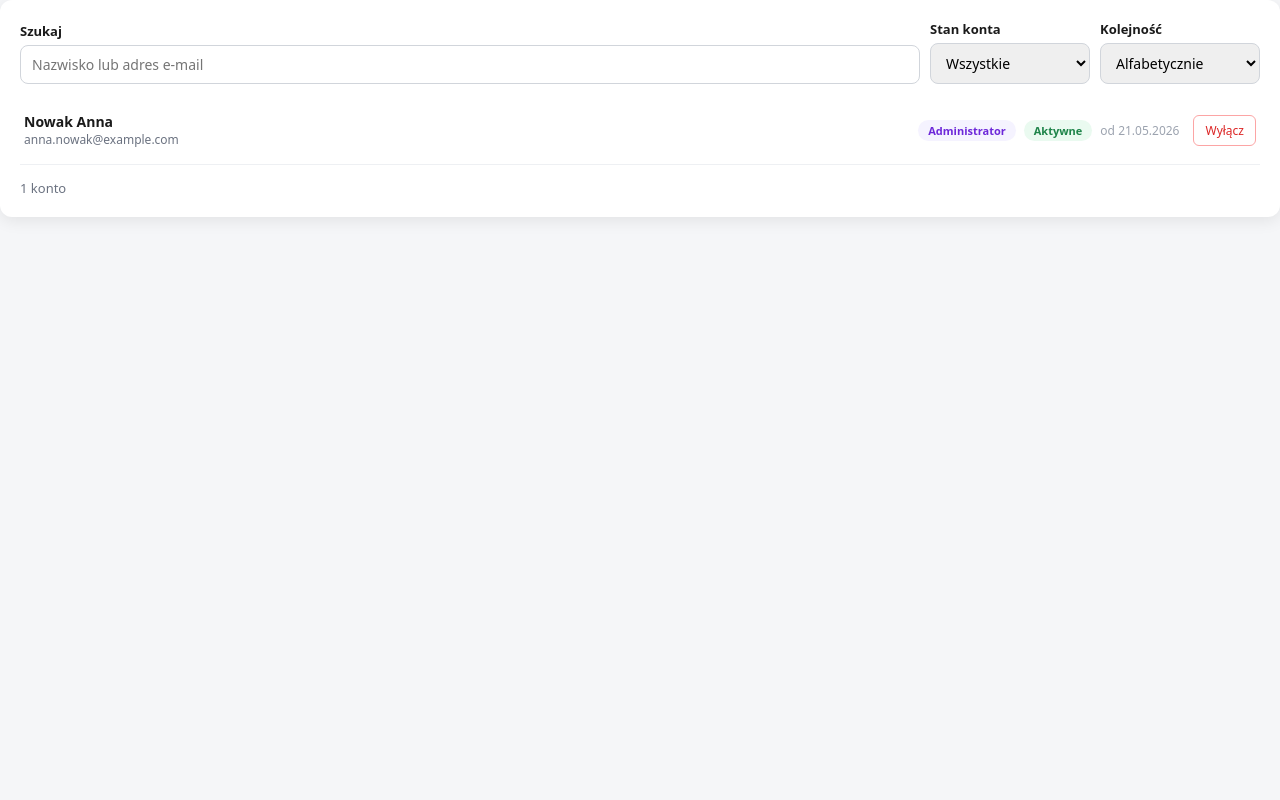
it: AdminUsersPage › odmowa z serwera zostaje w oknie potwierdzenia i nie zmienia wiersza
Expected: the text "Nowak Anna" is shown, [24, 112, 113, 131]
Click the button "Wyłącz" at (1225, 130), box [1194, 114, 1256, 146]
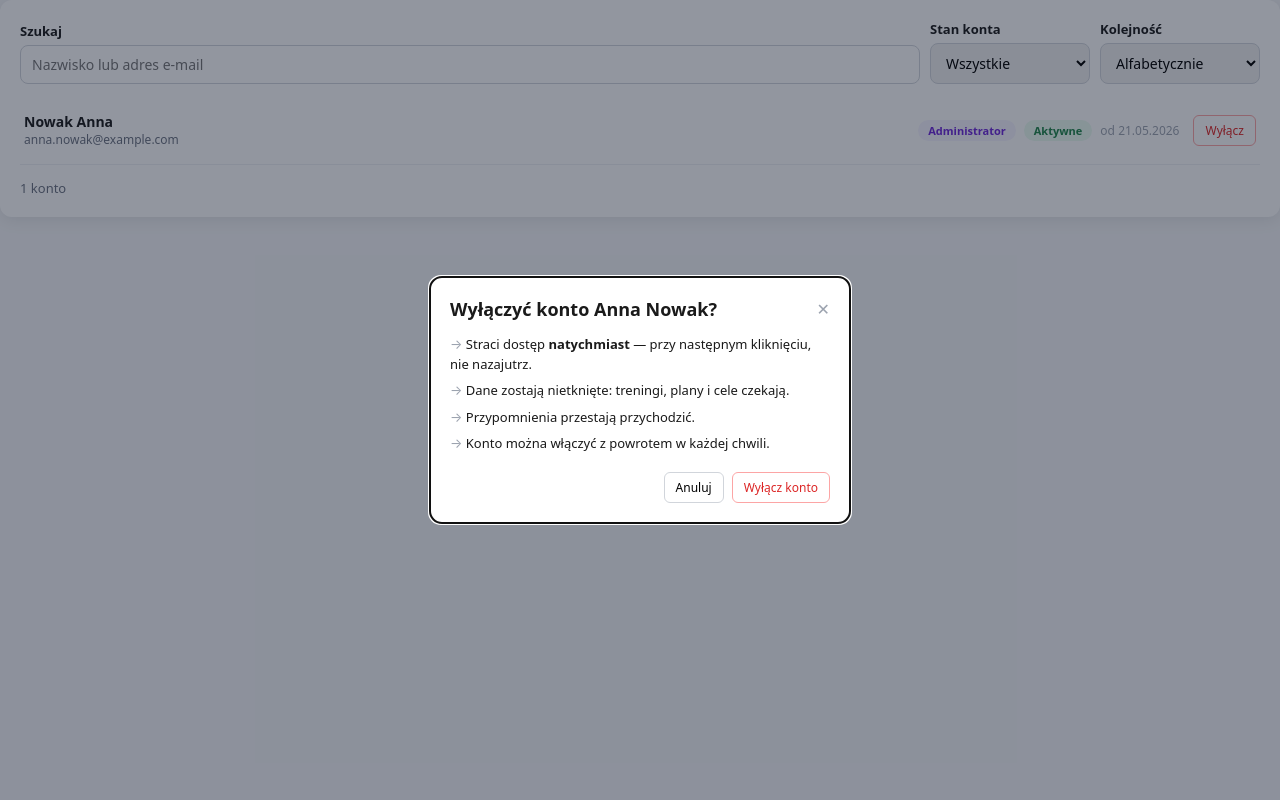
Click the button "Wyłącz konto" at (781, 487), box [732, 472, 830, 503]
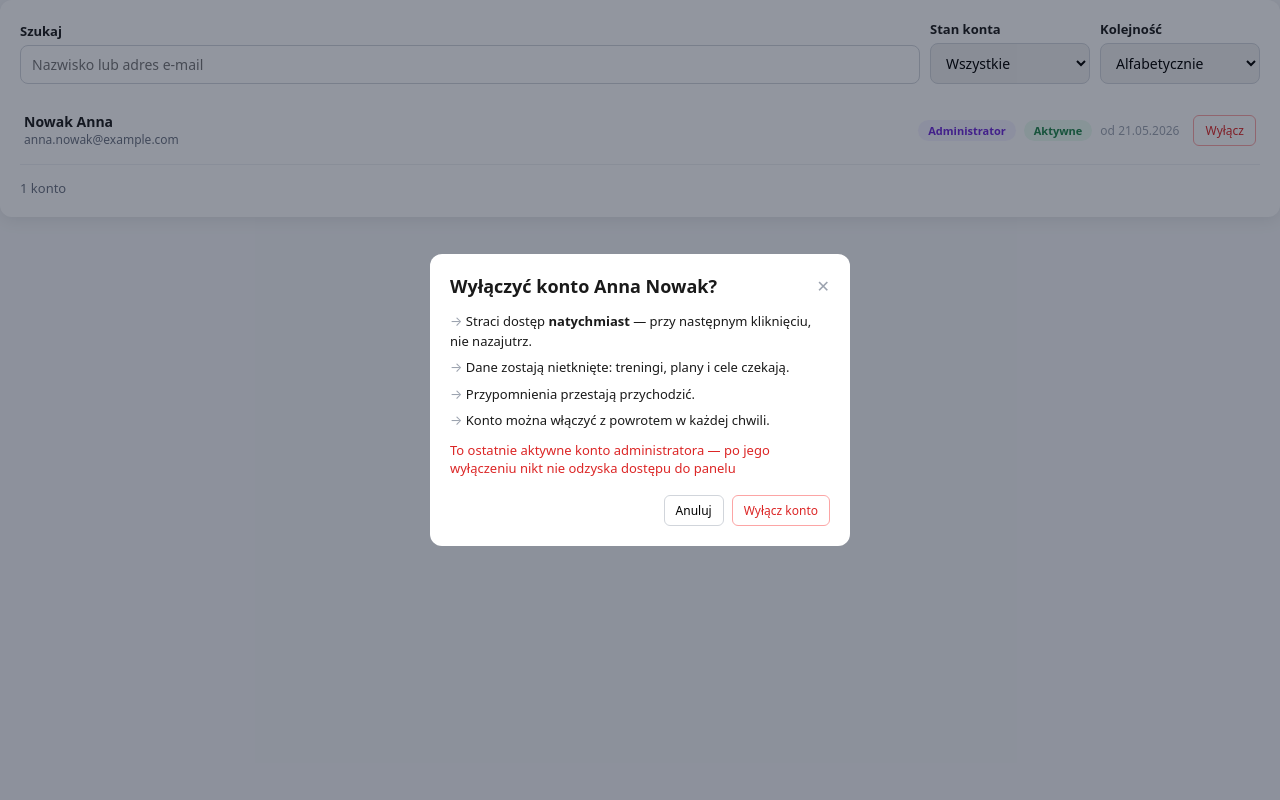
Expected: the text "Aktywne" is shown, [1024, 120, 1092, 140]
Expected: the text "To ostatnie aktywne konto administratora — po jego wyłączeniu nikt nie odzyska dostępu do panelu" is shown, [450, 441, 770, 477]
